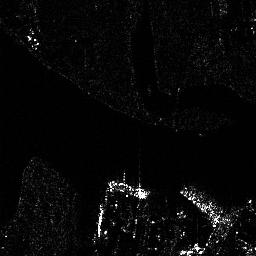ship: (106, 177, 150, 200)
